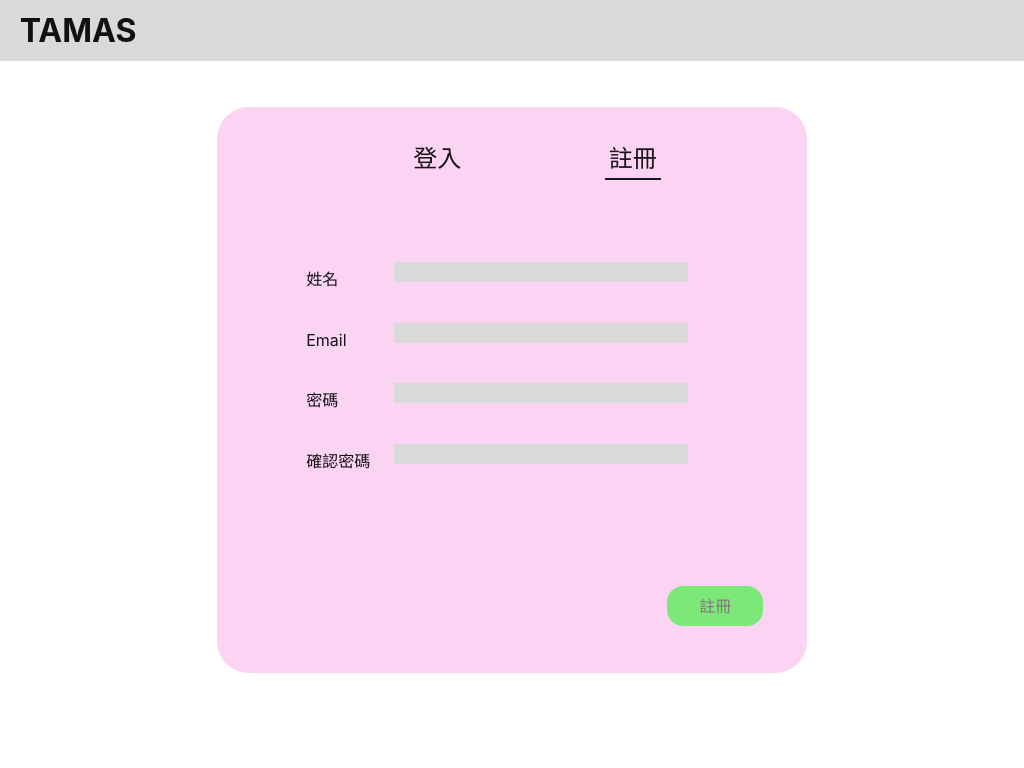
HomePage registration flow › keeps the entered values after a connection error and allows retry
This screenshot has width=1024, height=768.
Type "user123" into the field labelled "姓名" at (541, 272), box [394, 262, 688, 282]
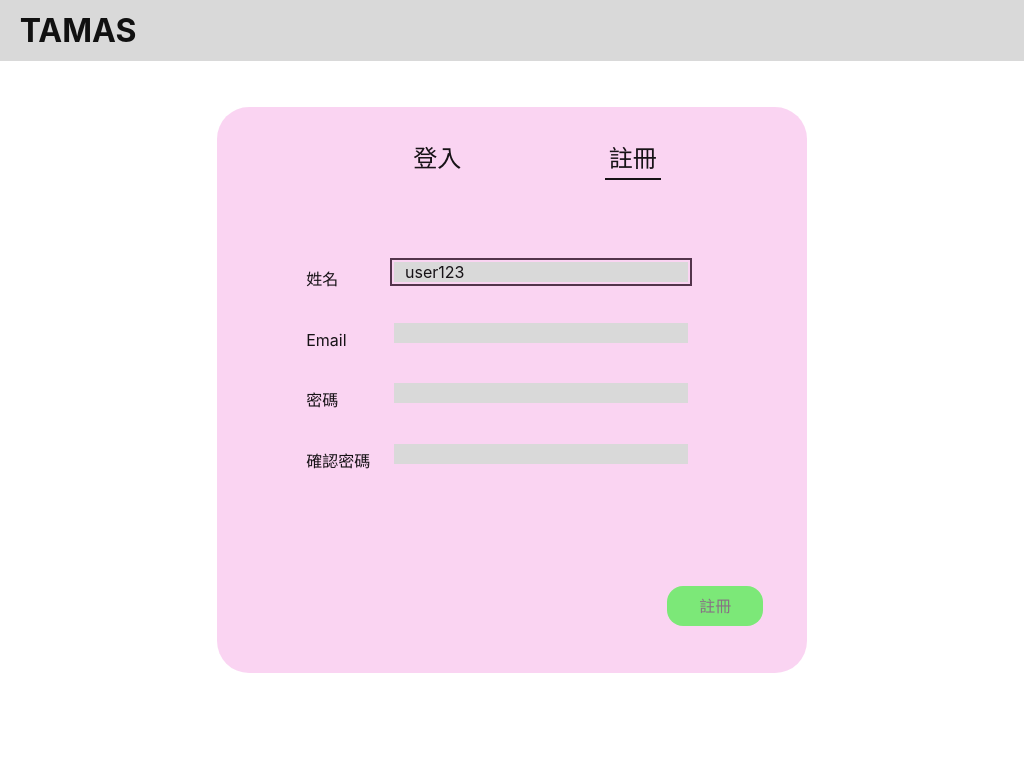
Type "user@example.com" into the field labelled "Email" at (541, 332), box [394, 322, 688, 342]
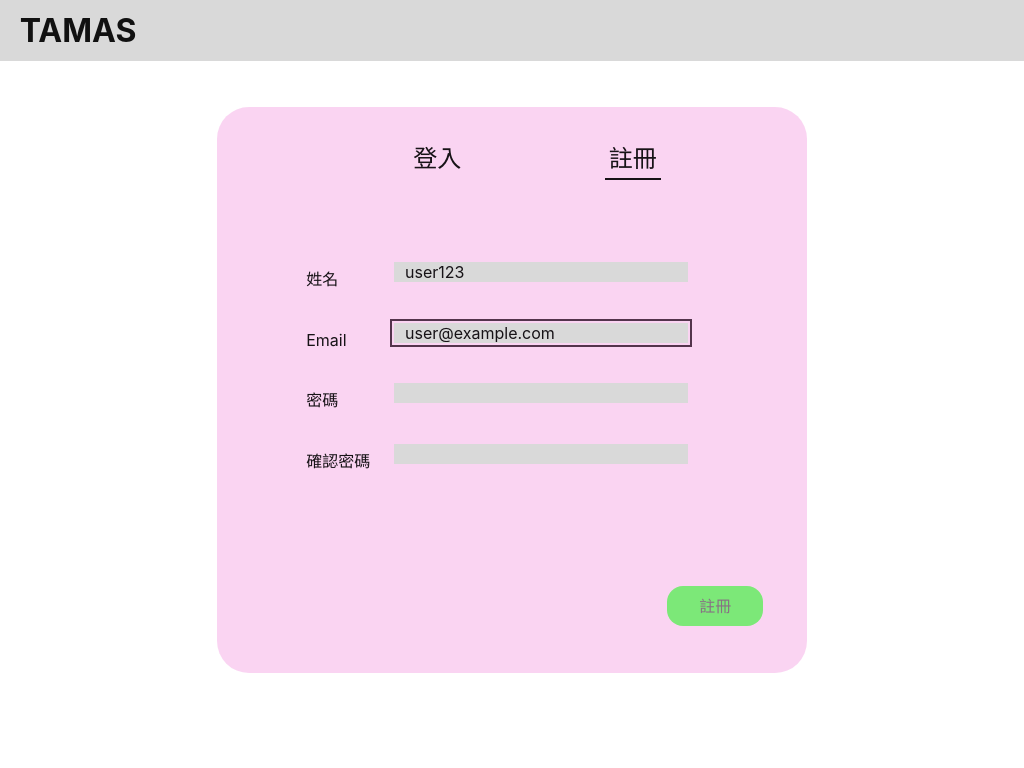
Type "ValidPass123" into the password field labelled "密碼" at (541, 393), box [394, 383, 688, 403]
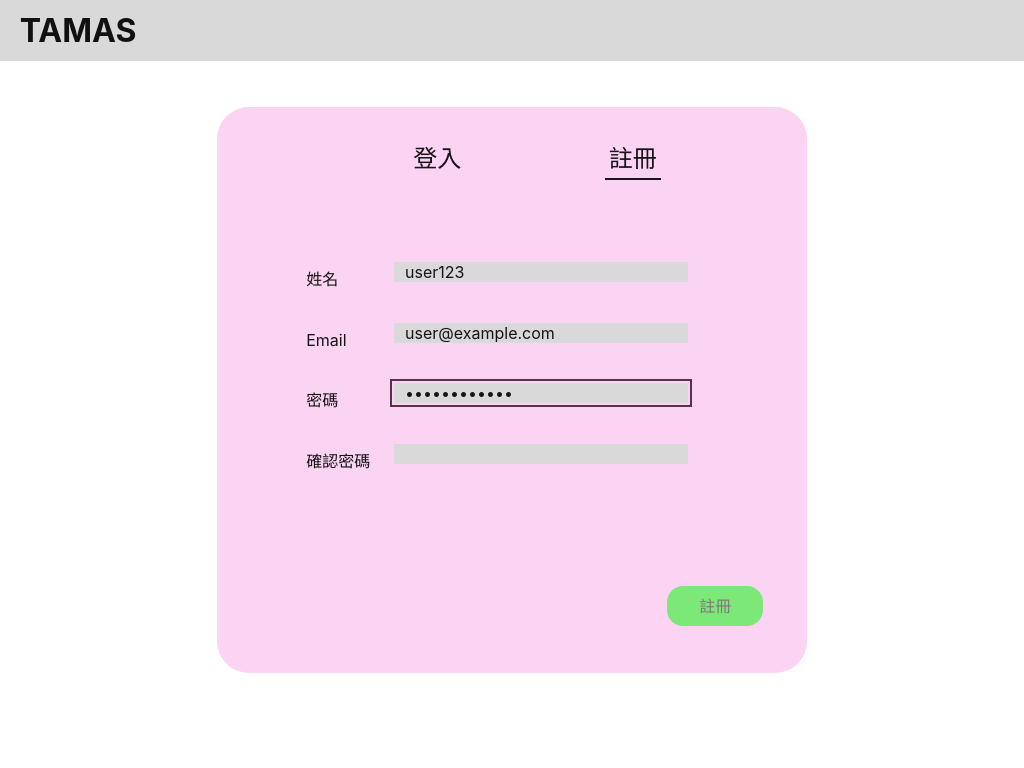
Type "ValidPass123" into the password field labelled "確認密碼" at (541, 454), box [394, 444, 688, 464]
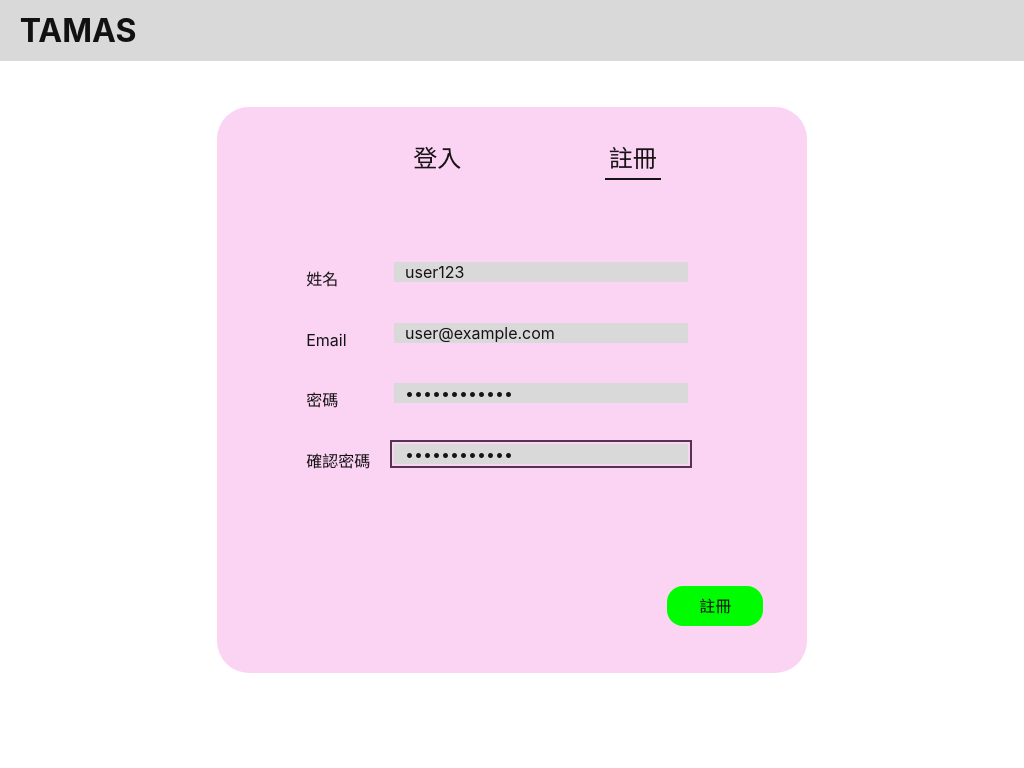
Click the 2nd button "註冊" at (715, 606), box [668, 586, 763, 626]
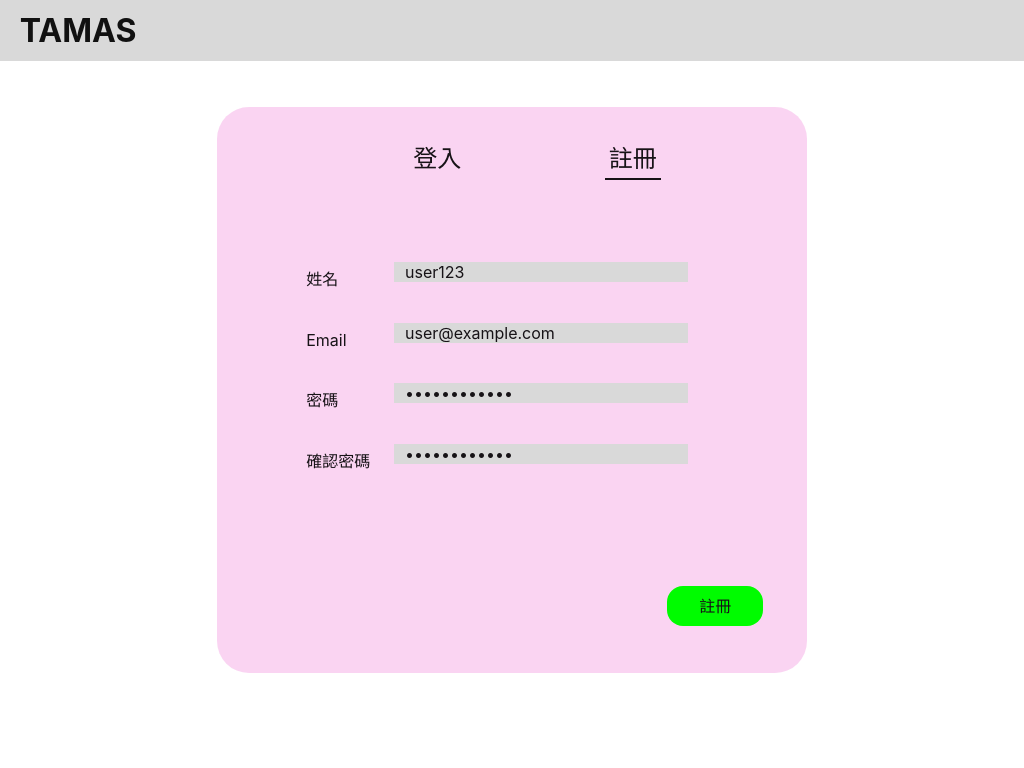
expect the 2nd button "註冊" is enabled: met
Click the 2nd button "註冊" at (715, 606), box [668, 586, 763, 626]
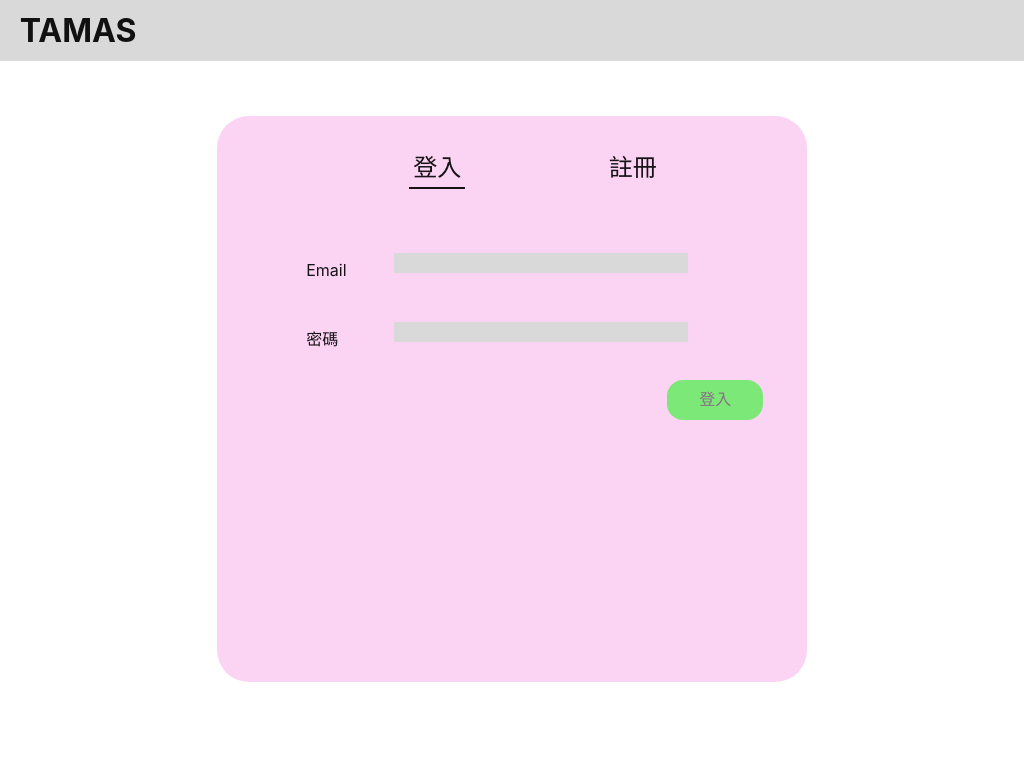
expect the form named "登入表單" is shown: met, box [306, 189, 688, 420]
